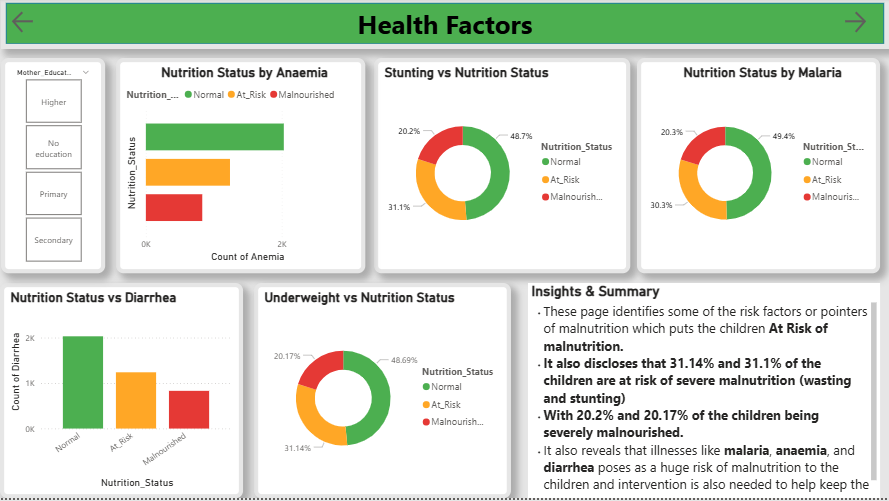

The page's visual inventory and layout, read from the dashboard file:
{"tool":"powerbi","page":{"name":"Health Factors","canvas":[1280,720],"ordinal":1},"visuals":[{"type":"shape","title":"Under-Five Child Nutrition Analysis Dashboard","box":[1.4,0,1278.7,73.4],"z":0},{"type":"donutChart","title":"Stunting vs Nutrition Status","fields":{"Y":["Sum(malnutrition_children_ethiopia.Underweight)"],"Category":["malnutrition_children_ethiopia.Nutrition_Status"]},"box":[538.6,86.4,368.6,309.6],"z":1000},{"type":"barChart","title":"Nutrition Status by Anaemia","fields":{"Category":["malnutrition_children_ethiopia.Nutrition_Status"],"Y":["CountNonNull(malnutrition_children_ethiopia.Anemia)"],"Series":["malnutrition_children_ethiopia.Nutrition_Status"]},"box":[167,86.4,358.6,309.6],"z":2000},{"type":"donutChart","title":"Nutrition Status by Malaria","fields":{"Category":["malnutrition_children_ethiopia.Nutrition_Status"],"Y":["Sum(malnutrition_children_ethiopia.Malaria)"]},"box":[917.3,86.4,349.9,309.6],"z":3000},{"type":"donutChart","title":"Underweight vs Nutrition Status","fields":{"Category":["malnutrition_children_ethiopia.Nutrition_Status"],"Y":["Sum(malnutrition_children_ethiopia.Underweight)"]},"box":[365.8,410.4,370.1,309.6],"z":4000},{"type":"columnChart","title":"Nutrition Status vs Diarrhea","fields":{"Category":["malnutrition_children_ethiopia.Nutrition_Status"],"Y":["CountNonNull(malnutrition_children_ethiopia.Diarrhea)"]},"box":[0,410.4,349.9,309.6],"z":5000},{"type":"slicer","fields":{"Values":["malnutrition_children_ethiopia.Mother_Education"]},"box":[1.4,86.4,149.8,309.6],"z":6000},{"type":"actionButton","box":[13,14.4,99.4,40.3],"z":7000},{"type":"actionButton","box":[1211,14.4,69.1,40.3],"z":8000},{"type":"textbox","title":"Insights & Summary","box":[760.3,410.4,506.9,309.6],"z":9000}]}

Visuals, with their boxes in screenshot pixels (x1, y1, x2, y2), scaled from the page's 1280x720 canvas onto the 889x501 screenshot:
"Under-Five Child Nutrition Analysis Dashboard" shape: 1 0 888 51
"Stunting vs Nutrition Status" donutChart: 374 60 630 276
"Nutrition Status by Anaemia" barChart: 116 60 365 276
"Nutrition Status by Malaria" donutChart: 637 60 880 276
"Underweight vs Nutrition Status" donutChart: 254 286 511 500
"Nutrition Status vs Diarrhea" columnChart: 0 286 243 500
slicer - malnutrition_children_ethiopia.Mother_Education: 1 60 105 276
actionButton: 9 10 78 38
actionButton: 841 10 888 38
"Insights & Summary" textbox: 528 286 880 500
